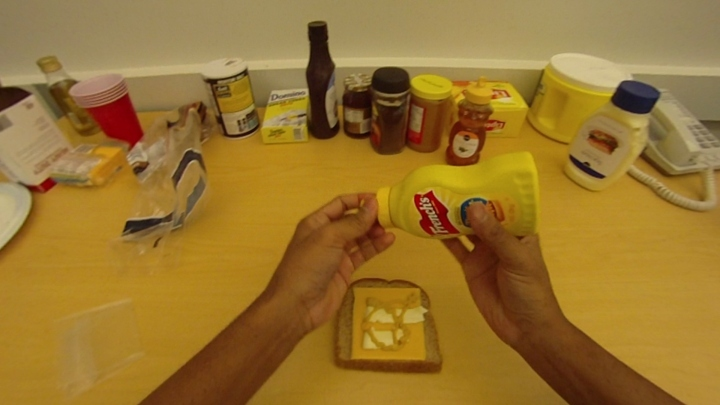hand: (428, 182, 562, 325), (275, 189, 392, 322)
